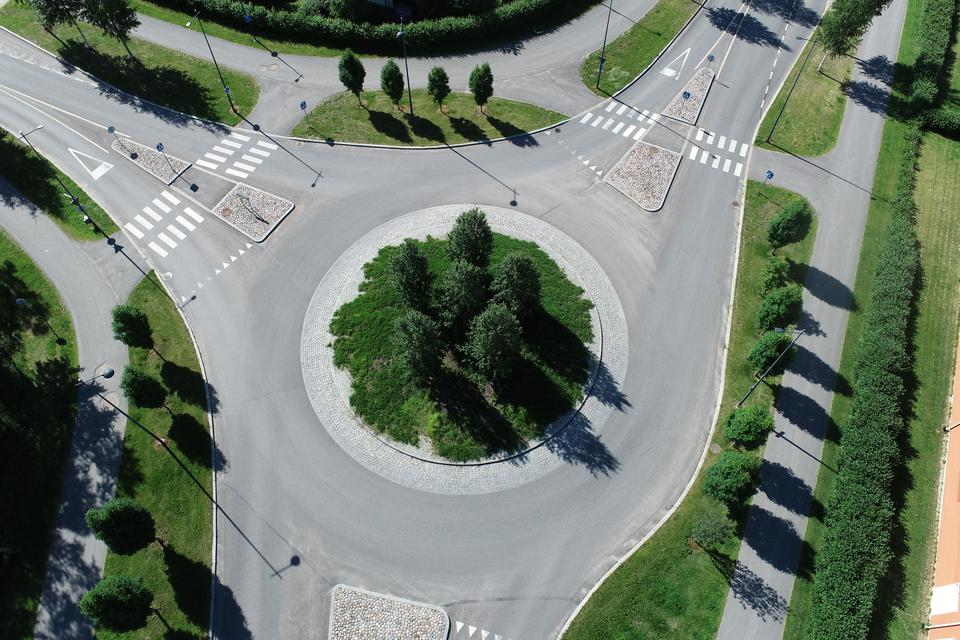roundabout: (178, 113, 755, 630)
